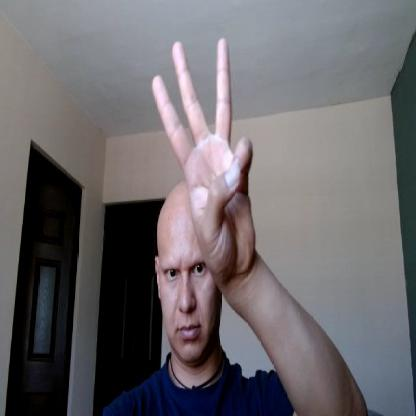W: (152, 36, 254, 276)
